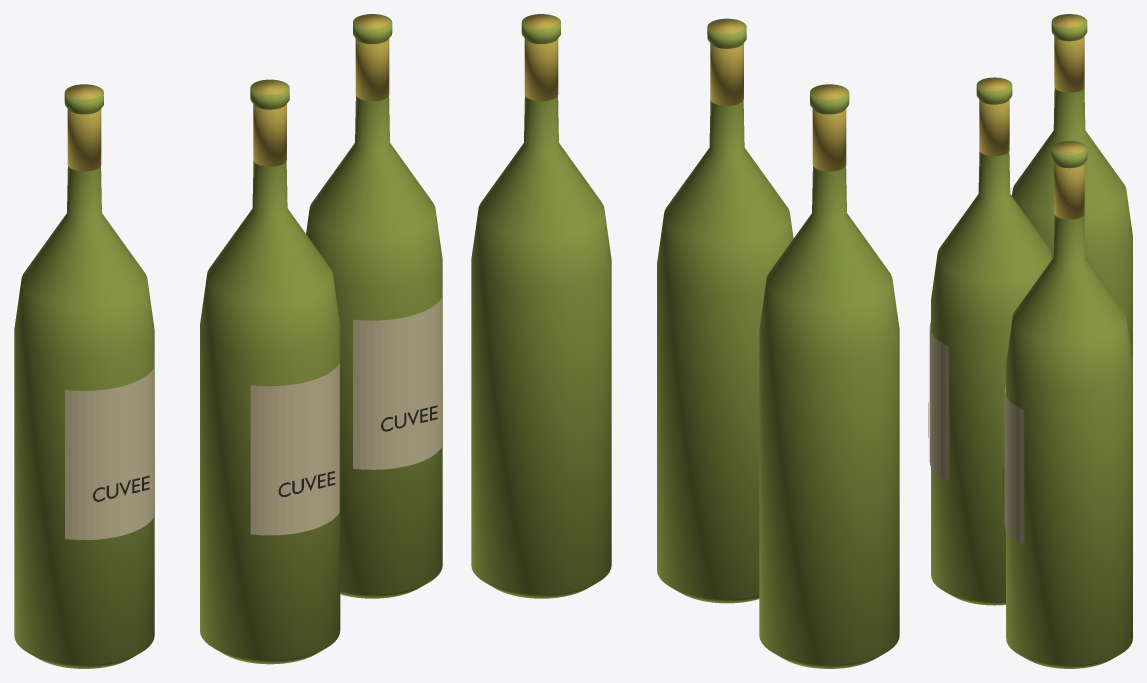
3 views of the same model, side by side, from view 1: azimuth 30°, elevation 25°; view 2: azimuth 150°, elevation 25°; view 3: azimuth 270°, elevation 25° (orthographic). The views are drawn at different scales.
Parts seen in each view (by area): view 1: TI005 / bottle body.001, TI005 / bottle body, TI005 / bottle body.002, TI005 / curved bottle label.001, TI005 / curved bottle label.002, TI005 / curved bottle label, TI005 / bottle neck foil, TI005 / bottle neck foil.002, TI005 / bottle neck foil.001; view 2: TI005 / bottle body, TI005 / bottle body.002, TI005 / bottle body.001, TI005 / bottle neck foil, TI005 / bottle neck foil.002, TI005 / bottle neck foil.001; view 3: TI005 / bottle body.002, TI005 / bottle body.001, TI005 / bottle body, TI005 / curved bottle label.002, TI005 / curved bottle label.001, TI005 / bottle neck foil.001, TI005 / bottle neck foil, TI005 / bottle neck foil.002.
Boxes of the visible parts, x1,y1,x2,y2 form: TI005 / bottle body.001: (200, 79, 340, 664); TI005 / bottle body: (14, 84, 154, 668); TI005 / bottle body.002: (306, 14, 442, 598); TI005 / curved bottle label.001: (250, 363, 339, 535); TI005 / curved bottle label.002: (353, 298, 441, 469); TI005 / curved bottle label: (65, 368, 153, 539); TI005 / bottle neck foil: (67, 85, 101, 171); TI005 / bottle neck foil.002: (355, 15, 389, 101); TI005 / bottle neck foil.001: (253, 80, 286, 166); TI005 / bottle body: (759, 84, 899, 668); TI005 / bottle body.002: (471, 14, 611, 598); TI005 / bottle body.001: (657, 18, 793, 603); TI005 / bottle neck foil: (812, 85, 846, 171); TI005 / bottle neck foil.002: (524, 15, 558, 101); TI005 / bottle neck foil.001: (710, 20, 743, 105); TI005 / bottle body.002: (1006, 141, 1132, 668); TI005 / bottle body.001: (931, 77, 1051, 605); TI005 / bottle body: (1012, 14, 1132, 361); TI005 / curved bottle label.002: (1004, 386, 1024, 544); TI005 / curved bottle label.001: (929, 322, 949, 480); TI005 / bottle neck foil.001: (979, 78, 1009, 156); TI005 / bottle neck foil: (1054, 15, 1084, 92); TI005 / bottle neck foil.002: (1054, 142, 1084, 219).
Bounding box in the file's own units: 2.56 × 3.3 × 1.23.
